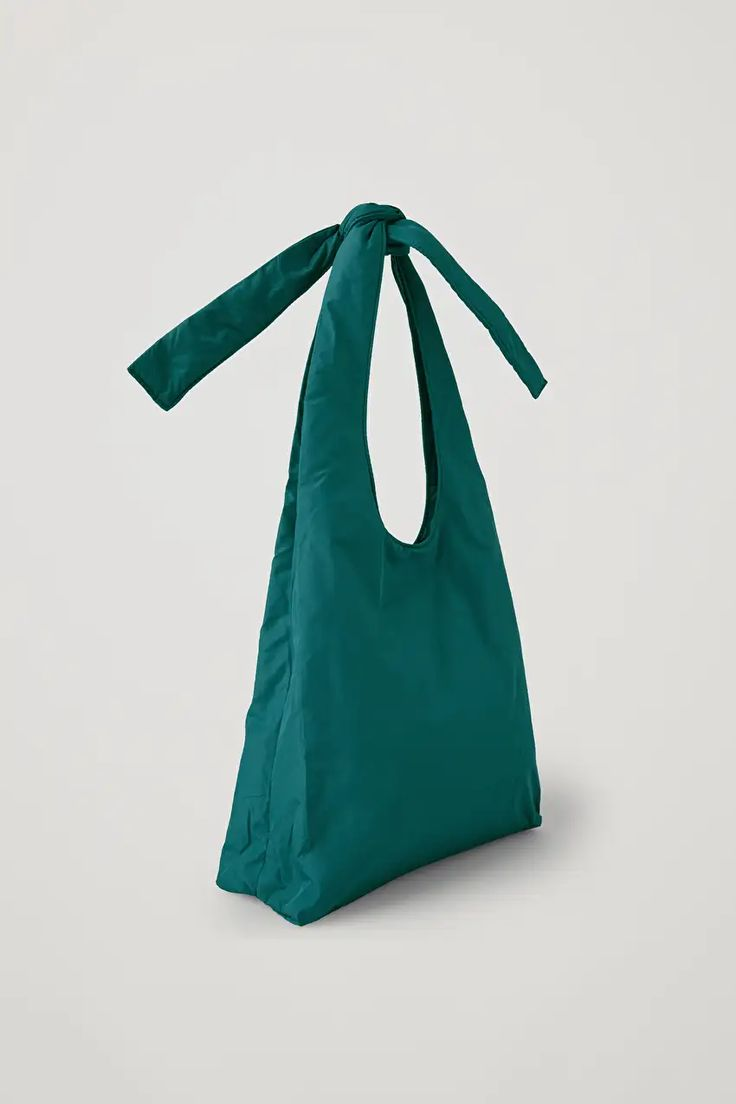nylon: (127, 202, 559, 926)
